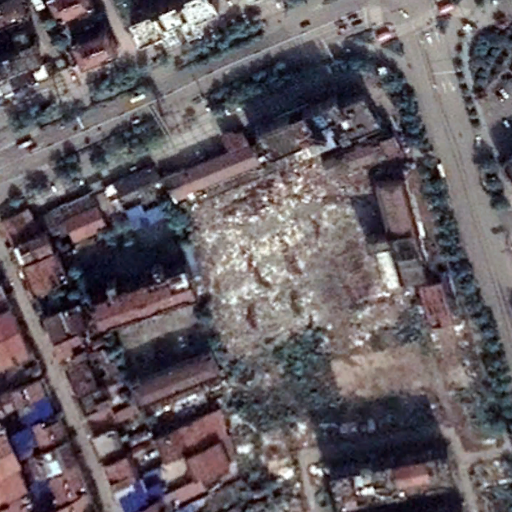msw: (189, 156, 402, 355)
